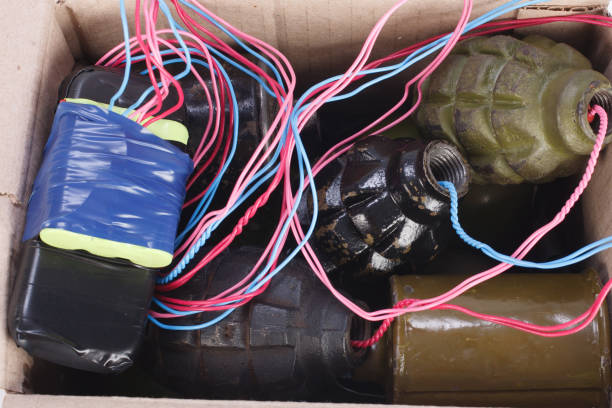e1: (415, 39, 612, 189)
